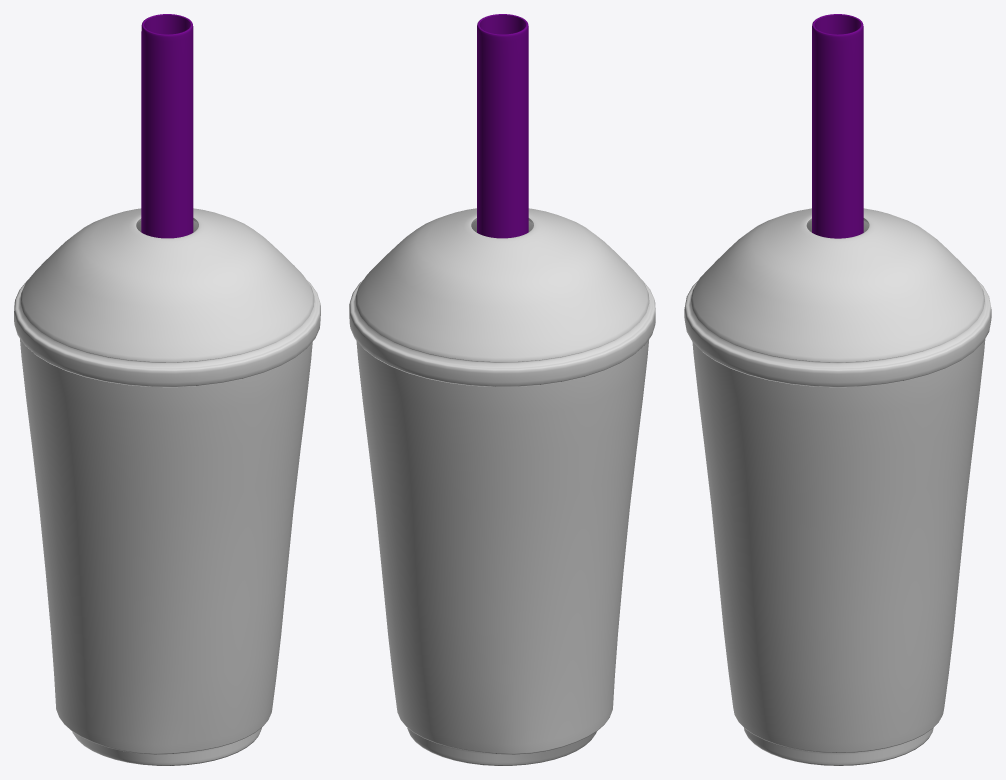
File: Boba-Tea-Cup.fbx
The picture shows the model from 3 angles, left to right: view 1: azimuth 30°, elevation 25°; view 2: azimuth 150°, elevation 25°; view 3: azimuth 270°, elevation 25°; orthographic projection.
Visible parts, largest first — view 1: Cup_01, Lid_01, straw_01; view 2: Cup_01, Lid_01, straw_01; view 3: Cup_01, Lid_01, straw_01.
Part boxes in pixels (box(x1,y1,x2,y2)): Cup_01: box(20, 339, 312, 765); Lid_01: box(14, 208, 320, 387); straw_01: box(141, 14, 193, 238); Cup_01: box(356, 340, 648, 765); Lid_01: box(349, 208, 655, 386); straw_01: box(477, 14, 528, 238); Cup_01: box(692, 339, 985, 765); Lid_01: box(684, 208, 991, 387); straw_01: box(812, 14, 863, 238).
Bounding box in the file's own units: 3.01 × 7.59 × 3.01.
